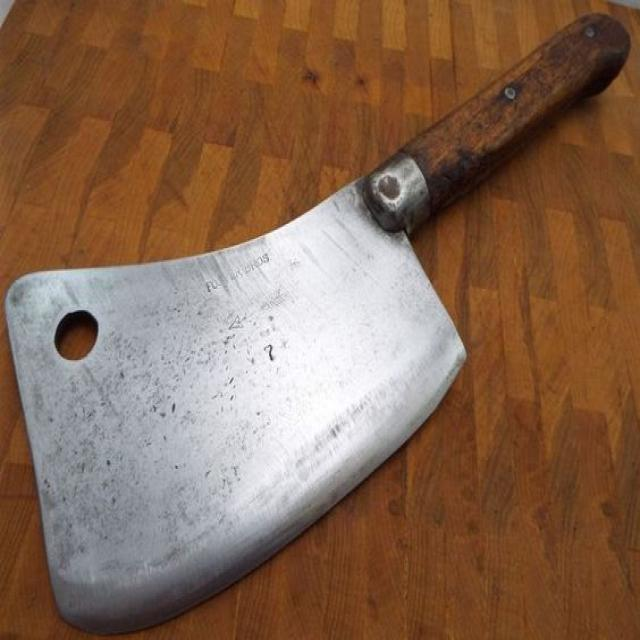cleaver: (7, 8, 633, 630)
